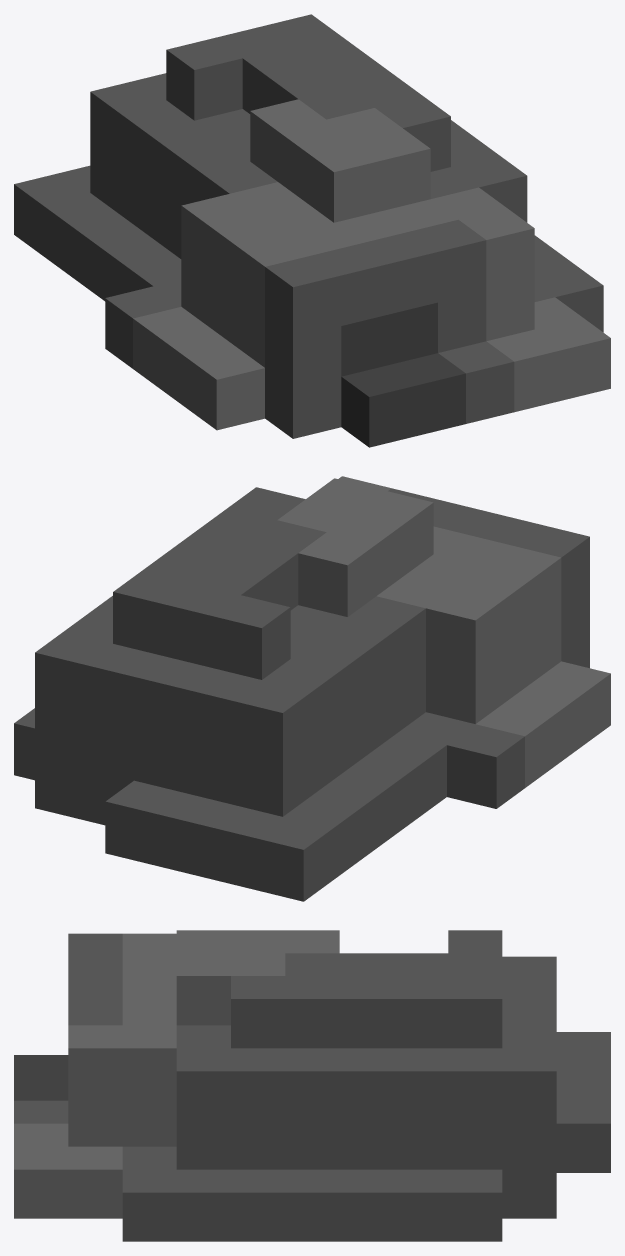
The model's file is Steen1.fbx.
3 views of the same model, one above another, from view 1: azimuth 30°, elevation 25°; view 2: azimuth 150°, elevation 25°; view 3: azimuth 270°, elevation 25° (orthographic). The views are drawn at different scales.
Visible parts, largest first — view 1: Steen1:Steen1; view 2: Steen1:Steen1; view 3: Steen1:Steen1.
Part boxes in pixels (left/top/right/bottom): Steen1:Steen1: left=14, top=14, right=610, bottom=447; Steen1:Steen1: left=14, top=476, right=610, bottom=901; Steen1:Steen1: left=14, top=930, right=610, bottom=1241.
Bounding box in the file's own units: 8 × 4 × 11.
Materials: 1 (1 with a texture image).
